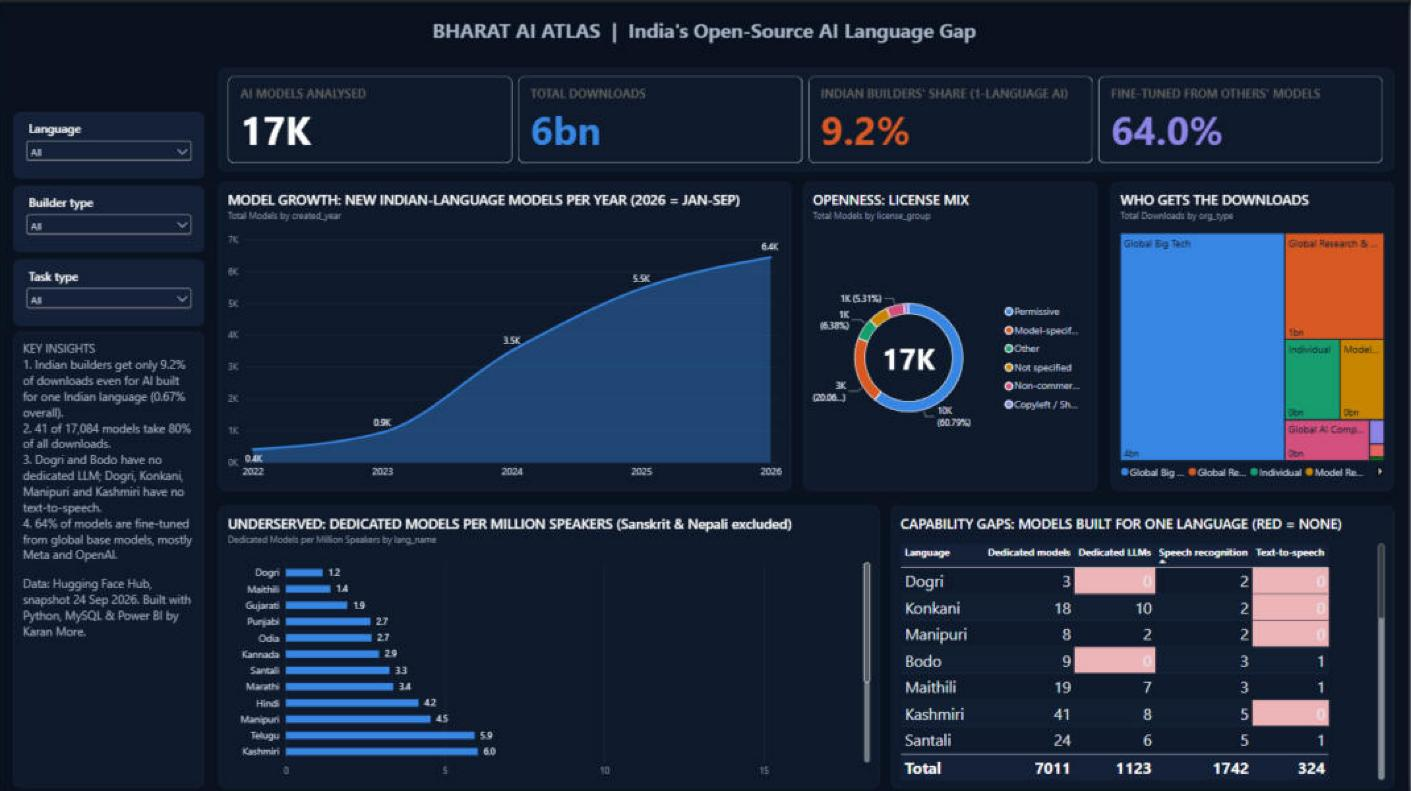

The page's visual inventory and layout, read from the dashboard file:
{"tool":"powerbi","page":{"name":"Executive Dashboard","canvas":[1920,1080],"ordinal":0},"visuals":[{"type":"textbox","box":[20,10,1880,70],"z":0},{"type":"cardVisual","fields":{"Data":["_Measures.Total Models","_Measures.Total Downloads","_Measures.Indian Share (Dedicated)","_Measures.Derivative %"]},"box":[300,90,1600,140],"z":1},{"type":"slicer","fields":{"Values":["languages.lang_name"]},"box":[20,150,260,90],"z":2},{"type":"slicer","fields":{"Values":["organizations.org_type"]},"box":[20,250,260,90],"z":3},{"type":"slicer","fields":{"Values":["models.task_group"]},"box":[20,350,260,90],"z":4},{"type":"areaChart","title":"MODEL GROWTH: NEW INDIAN-LANGUAGE MODELS PER YEAR (2026 = JAN-SEP)","fields":{"Category":["models.created_year"],"Y":["_Measures.Total Models"]},"box":[300,245,780,420],"z":5},{"type":"donutChart","title":"OPENNESS: LICENSE MIX","fields":{"Category":["models.license_group"],"Y":["_Measures.Total Models"]},"box":[1095,245,400,420],"z":6},{"type":"treemap","title":"WHO GETS THE DOWNLOADS","fields":{"Group":["organizations.org_type"],"Values":["_Measures.Total Downloads"]},"box":[1515,245,385,420],"z":7},{"type":"clusteredBarChart","title":"UNDERSERVED: DEDICATED MODELS PER MILLION SPEAKERS (Sanskrit & Nepali excluded)","fields":{"Category":["vw_language_coverage.lang_name"],"Y":["_Measures.Dedicated Models per Million Speakers"]},"box":[300,685,900,385],"z":8},{"type":"tableEx","title":"CAPABILITY GAPS: MODELS BUILT FOR ONE LANGUAGE (RED = NONE)","fields":{"Values":["vw_language_coverage.lang_name","Sum(vw_language_coverage.dedicated_strict_models)","Sum(vw_language_coverage.dedicated_llm_models)","Sum(vw_language_coverage.dedicated_asr_models)","Sum(vw_language_coverage.dedicated_tts_models)"]},"box":[1215,685,685,385],"z":9},{"type":"textbox","box":[20,450,260,620],"z":10}]}

Visuals, with their boxes in screenshot pixels (x1, y1, x2, y2), scaled from the page's 1920x1080 canvas onto the 1411x791 screenshot:
textbox: [x1=15, y1=7, x2=1396, y2=59]
cardVisual - _Measures.Total Models x _Measures.Total Downloads: [x1=220, y1=66, x2=1396, y2=168]
slicer - languages.lang_name: [x1=15, y1=110, x2=206, y2=176]
slicer - organizations.org_type: [x1=15, y1=183, x2=206, y2=249]
slicer - models.task_group: [x1=15, y1=256, x2=206, y2=322]
"MODEL GROWTH: NEW INDIAN-LANGUAGE MODELS PER YEAR (2026 = JAN-SEP)" areaChart: [x1=220, y1=179, x2=794, y2=487]
"OPENNESS: LICENSE MIX" donutChart: [x1=805, y1=179, x2=1099, y2=487]
"WHO GETS THE DOWNLOADS" treemap: [x1=1113, y1=179, x2=1396, y2=487]
"UNDERSERVED: DEDICATED MODELS PER MILLION SPEAKERS (Sanskrit & Nepali excluded)" clusteredBarChart: [x1=220, y1=502, x2=882, y2=784]
"CAPABILITY GAPS: MODELS BUILT FOR ONE LANGUAGE (RED = NONE)" tableEx: [x1=893, y1=502, x2=1396, y2=784]
textbox: [x1=15, y1=330, x2=206, y2=784]
